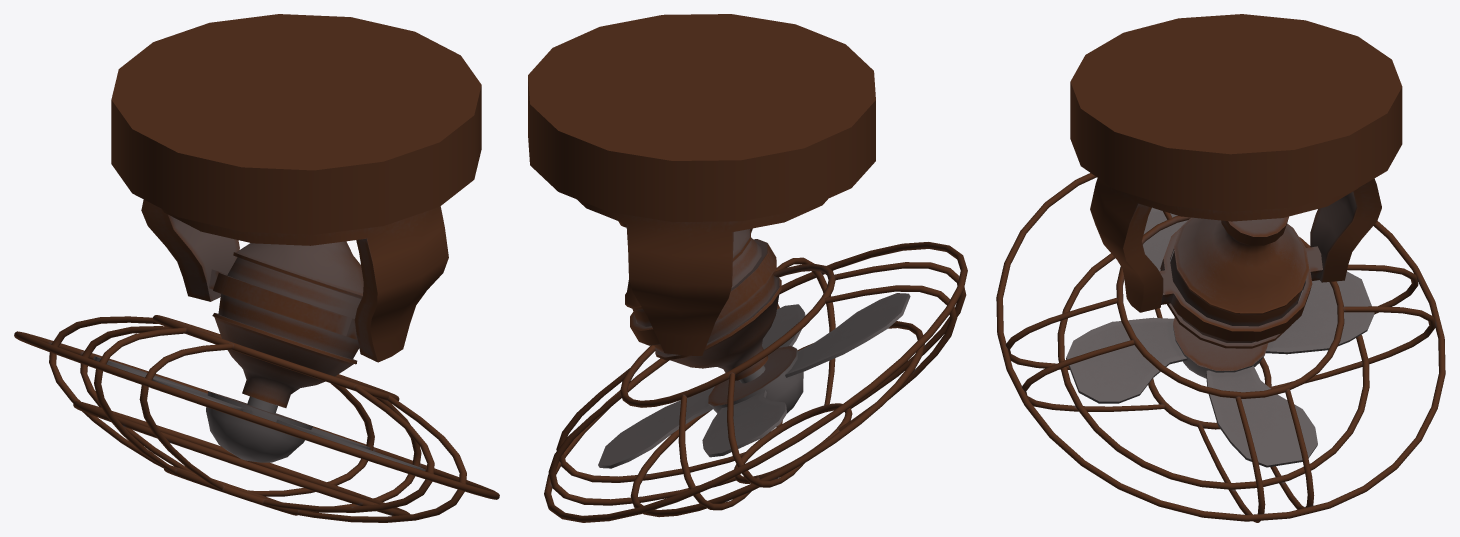
File: SM_Fan.fbx
The picture shows the model from 3 angles, left to right: view 1: azimuth 30°, elevation 25°; view 2: azimuth 150°, elevation 25°; view 3: azimuth 270°, elevation 25°; orthographic projection. The views are drawn at different scales.
Visible parts, largest first — view 1: SM_Fan; view 2: SM_Fan; view 3: SM_Fan.
Part boxes in pixels (<box>): SM_Fan: <box>14,14,499,522</box>; SM_Fan: <box>528,14,967,522</box>; SM_Fan: <box>996,14,1445,522</box>.
Bounding box in the file's own units: 37.38 × 40.15 × 38.39.
1 material, 1 textured.
